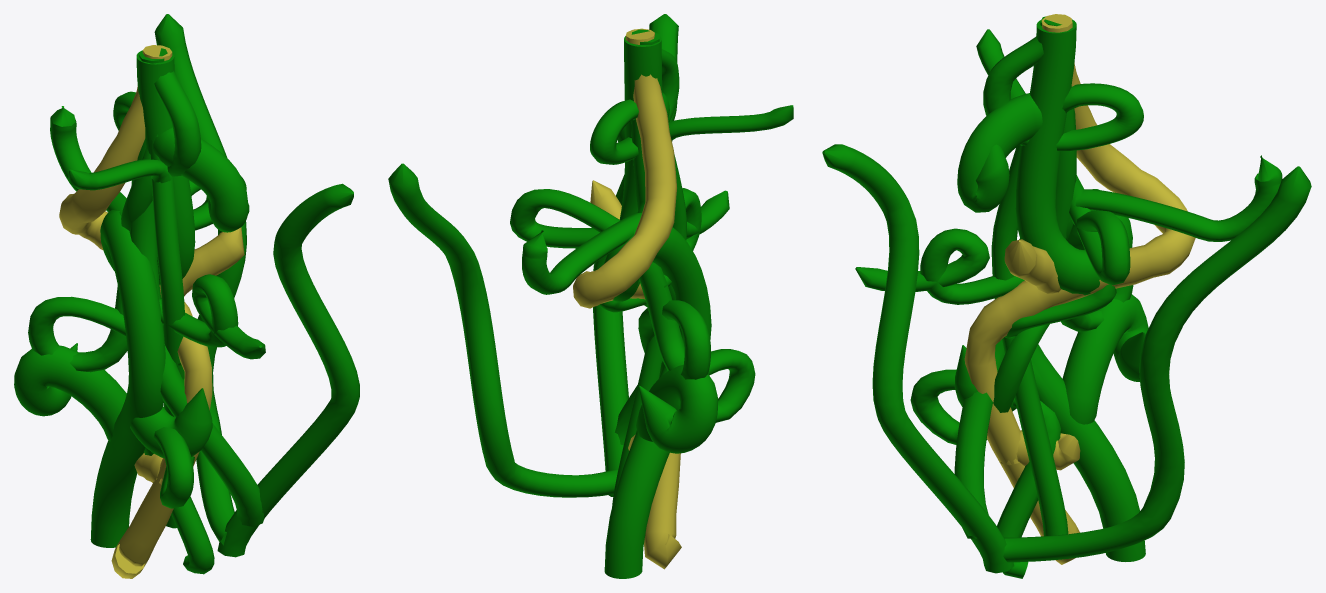
Rendered from stem2.glb.
The picture shows the model from 3 angles, left to right: view 1: azimuth 30°, elevation 25°; view 2: azimuth 150°, elevation 25°; view 3: azimuth 270°, elevation 25°; orthographic projection. The views are drawn at different scales.
Parts seen in each view (by area): view 1: BézierCurve.009, BézierCurve.006, BézierCurve.008, BézierCurve.005, BézierCurve.007; view 2: BézierCurve.008, BézierCurve.006, BézierCurve.009, BézierCurve.005, BézierCurve.007; view 3: BézierCurve.006, BézierCurve.009, BézierCurve.008, BézierCurve.005, BézierCurve.007.
Part boxes in pixels (left/top/right/bottom): BézierCurve.009: left=14, top=50, right=249, bottom=547; BézierCurve.006: left=129, top=14, right=359, bottom=557; BézierCurve.008: left=28, top=71, right=265, bottom=574; BézierCurve.005: left=59, top=45, right=244, bottom=578; BézierCurve.007: left=68, top=48, right=184, bottom=528; BézierCurve.008: left=510, top=49, right=755, bottom=431; BézierCurve.006: left=388, top=14, right=678, bottom=497; BézierCurve.009: left=604, top=35, right=717, bottom=578; BézierCurve.005: left=573, top=28, right=681, bottom=569; BézierCurve.007: left=599, top=29, right=793, bottom=506; BézierCurve.006: left=822, top=16, right=1311, bottom=573; BézierCurve.009: left=954, top=19, right=1148, bottom=561; BézierCurve.008: left=855, top=36, right=1282, bottom=578; BézierCurve.005: left=964, top=14, right=1195, bottom=564; BézierCurve.007: left=976, top=19, right=1116, bottom=536.
Size of the model in its own units: 4.22 by 8.23 by 6.55.
